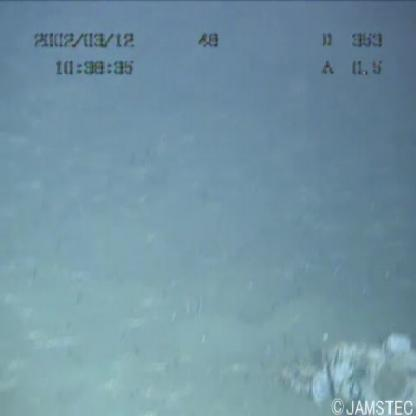Rác: (275, 330, 416, 415)
